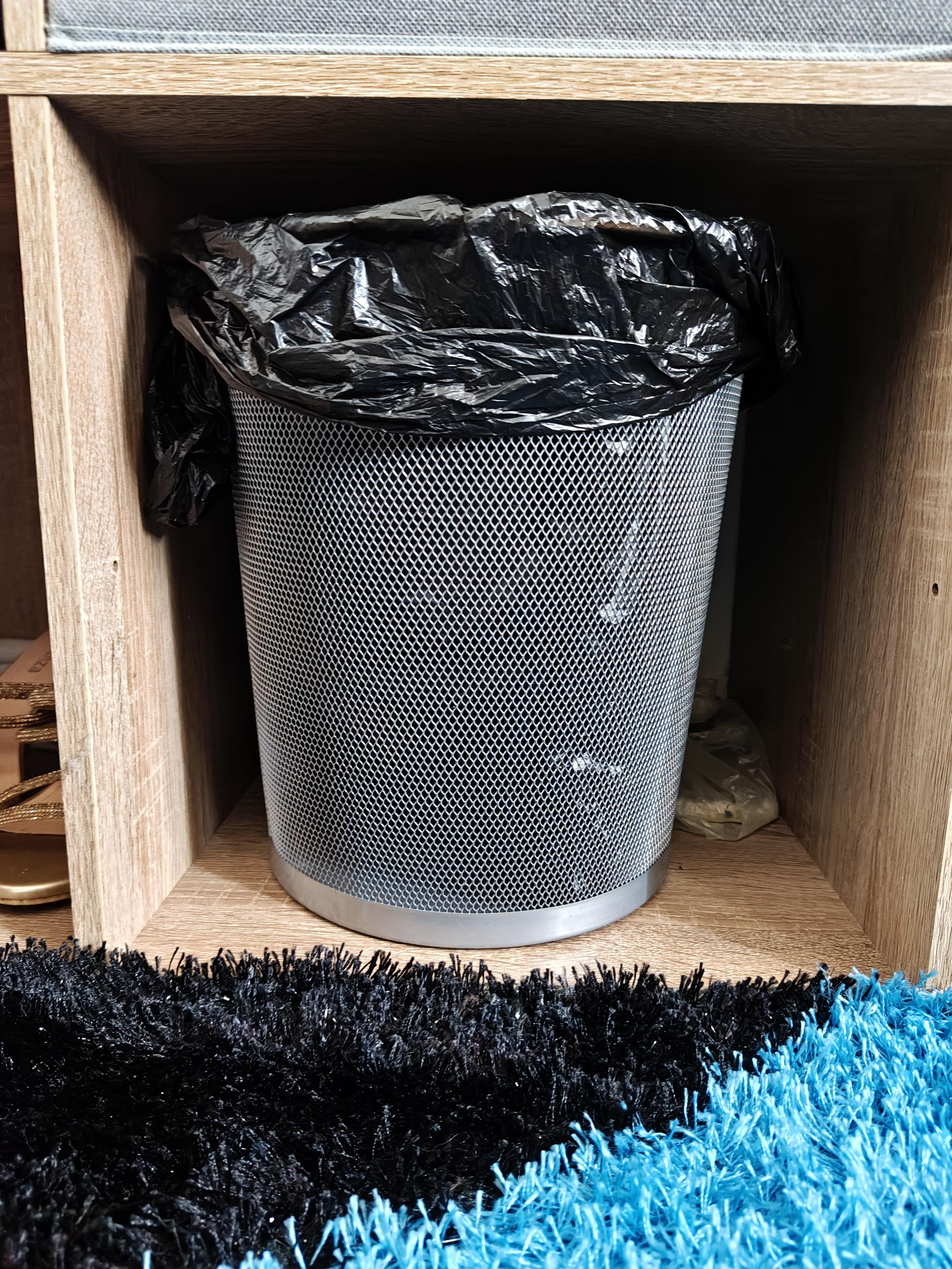bin: (158, 189, 794, 957)
